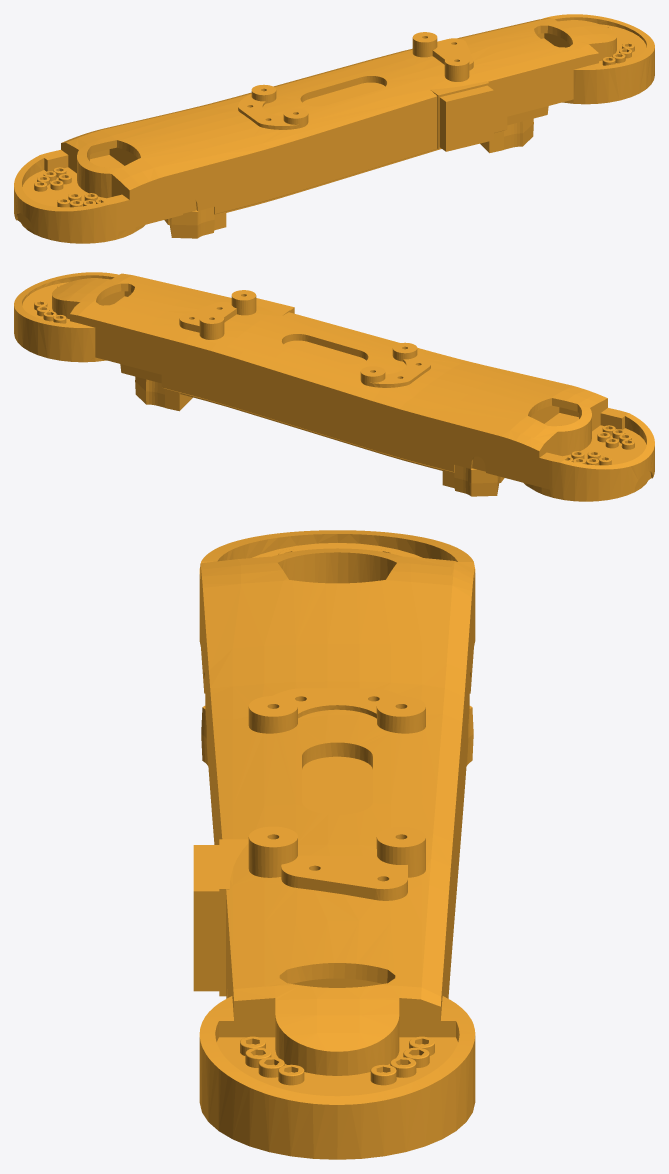
Rendered from ABBIRB1520IDLink2.dae.
The picture shows the model from 3 angles, top to bottom: view 1: azimuth 30°, elevation 25°; view 2: azimuth 150°, elevation 25°; view 3: azimuth 270°, elevation 25°; orthographic projection. The views are drawn at different scales.
Visible parts, largest first — view 1: IRB1520IDLink2; view 2: IRB1520IDLink2; view 3: IRB1520IDLink2.
Boxes of the visible parts, left/top/right/bottom form: IRB1520IDLink2: left=14, top=14, right=654, bottom=243; IRB1520IDLink2: left=14, top=272, right=654, bottom=501; IRB1520IDLink2: left=193, top=530, right=475, bottom=1159.
Size of the model in its own units: 0.73 by 0.143 by 0.109.
